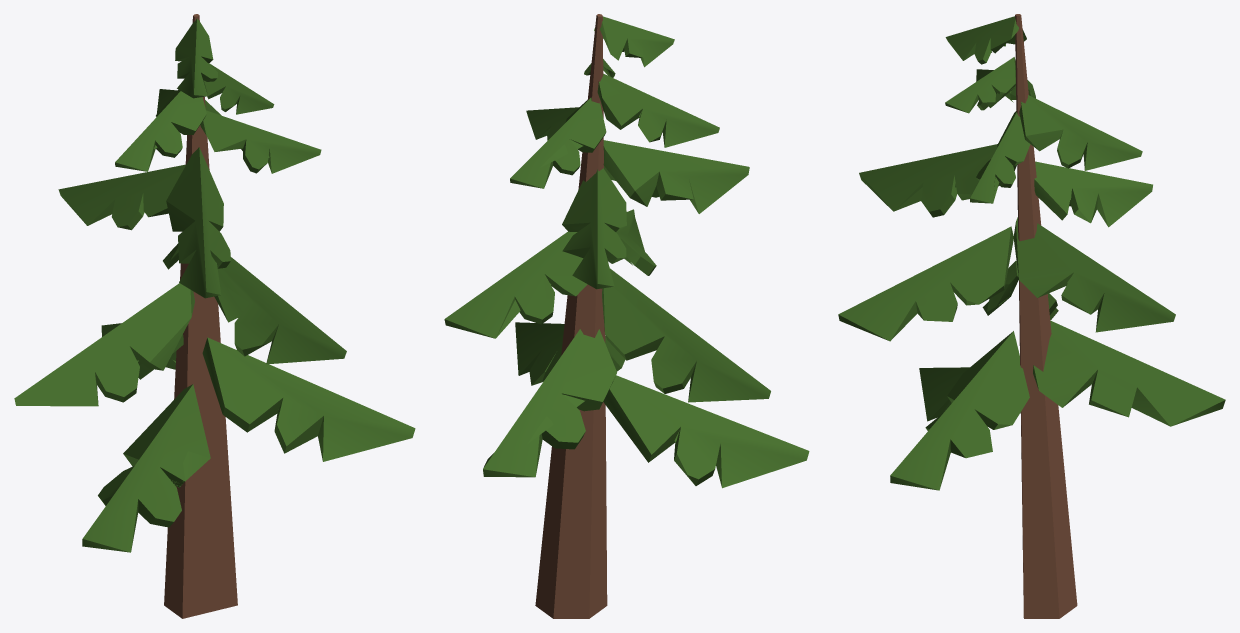
The model's file is TreeManyMaterials.fbx.
The picture shows the model from 3 angles, left to right: view 1: azimuth 30°, elevation 25°; view 2: azimuth 150°, elevation 25°; view 3: azimuth 270°, elevation 25°; orthographic projection. The views are drawn at different scales.
Visible parts, largest first — view 1: Tree_LOD_1.003; view 2: Tree_LOD_1.003; view 3: Tree_LOD_1.003.
Part boxes in pixels (box(x1,y1,x2,y2)): Tree_LOD_1.003: box(14, 14, 415, 618); Tree_LOD_1.003: box(444, 14, 809, 618); Tree_LOD_1.003: box(838, 14, 1225, 618).
Bounding box in the file's own units: 355 × 616 × 371.
